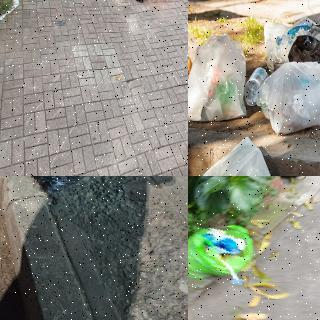Garbage: (188, 29, 251, 122), (254, 61, 320, 135), (188, 219, 260, 286), (188, 136, 285, 176), (1, 176, 101, 199)
